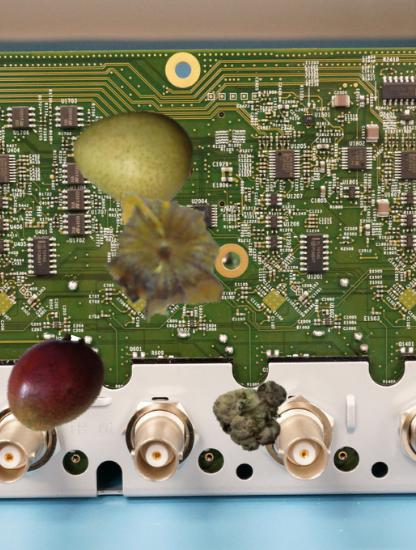Cauliflower: (217, 373, 294, 450)
Mango: (3, 332, 108, 437)
Pear: (70, 95, 195, 220)
Physalis: (95, 182, 238, 325)
